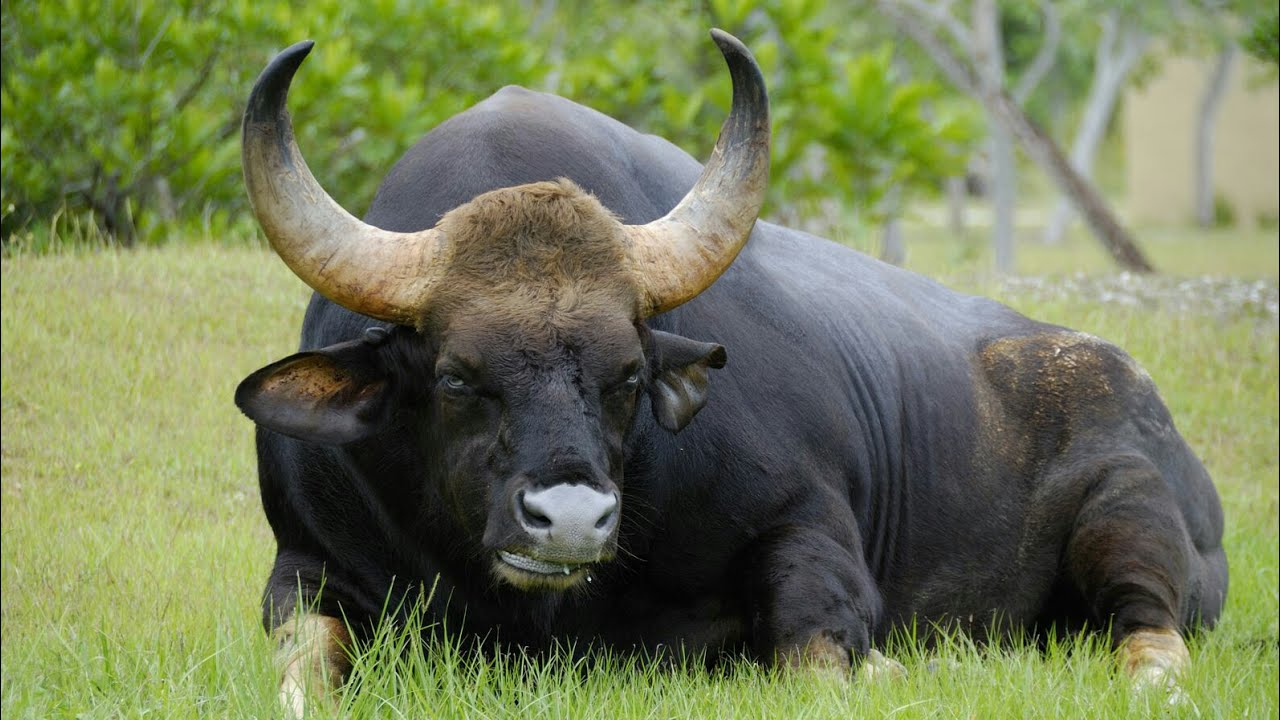bison: (182, 8, 1255, 720)
